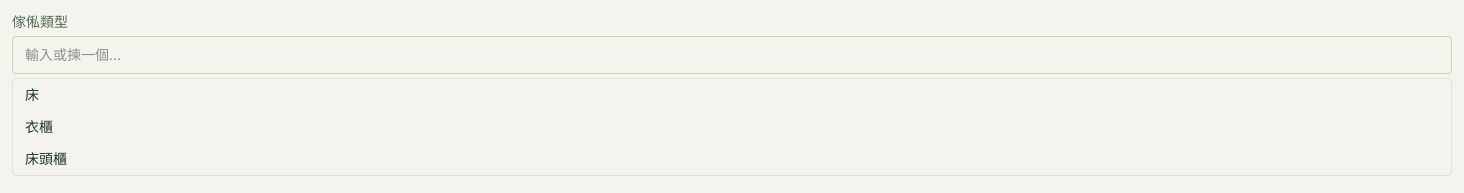
Scenario: SearchableSelect › filters the option list as the user types
This screenshot has width=1464, height=193.
Type "床" into the field labelled "傢俬類型" at coordinates (732, 55), box x1=12 y1=36 x2=1452 y2=74
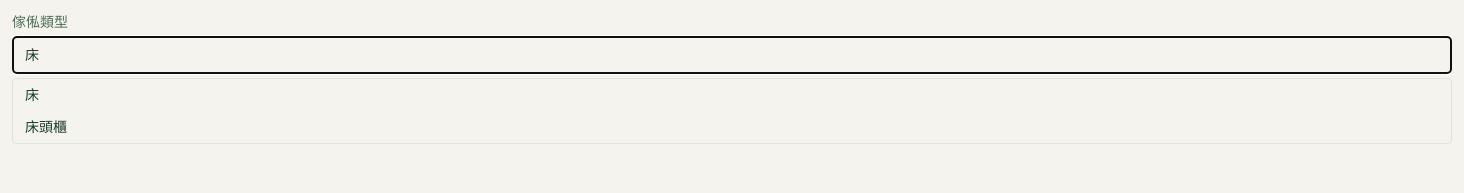
expect the option "床" is shown: met, box x1=13 y1=79 x2=1451 y2=111
expect the option "衣櫃" is gone: met
